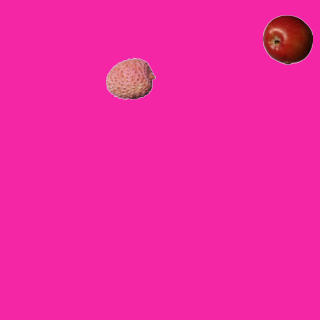Apple Braeburn: (262, 14, 312, 64)
Lychee: (105, 53, 155, 103)
